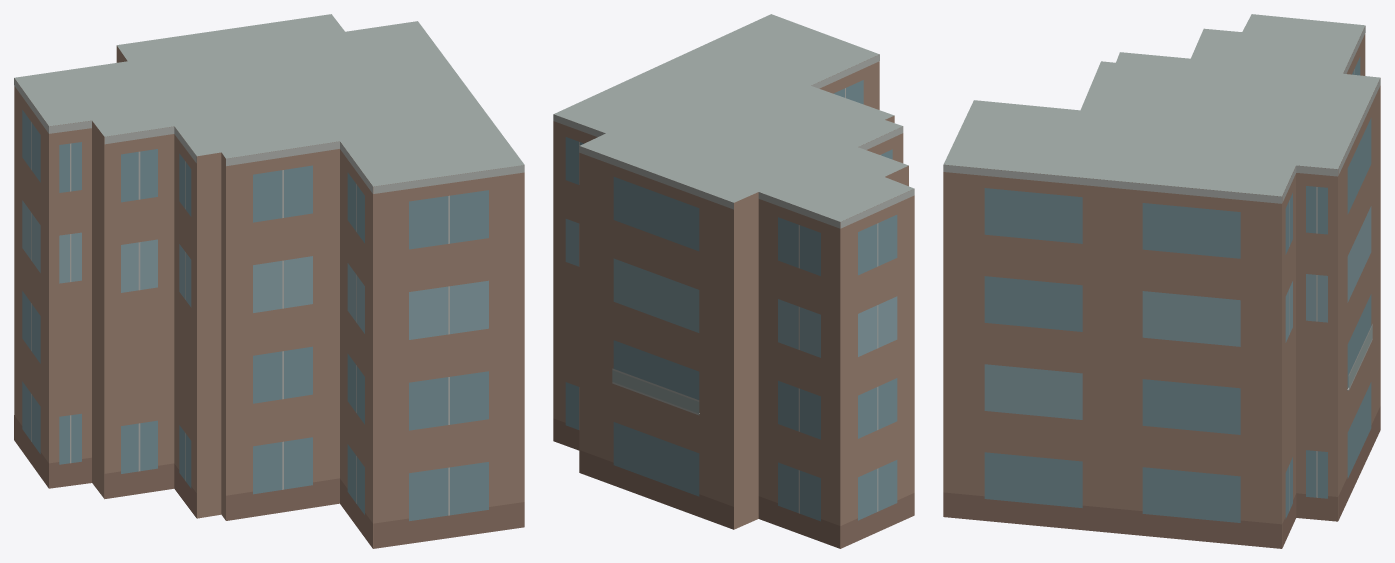
Rendered from survey-upis-32753347.glb.
3 views of the same model, side by side, from view 1: azimuth 30°, elevation 25°; view 2: azimuth 150°, elevation 25°; view 3: azimuth 270°, elevation 25° (orthographic). The views are drawn at different scales.
Visible parts, largest first — view 1: survey-upis-32753347.tmp; view 2: survey-upis-32753347.tmp; view 3: survey-upis-32753347.tmp.
Boxes of the visible parts, left/top/right/bottom form: survey-upis-32753347.tmp: left=14, top=14, right=524, bottom=548; survey-upis-32753347.tmp: left=553, top=14, right=914, bottom=548; survey-upis-32753347.tmp: left=943, top=14, right=1380, bottom=548.
Size of the model in its own units: 13.01 by 11.7 by 13.17.
